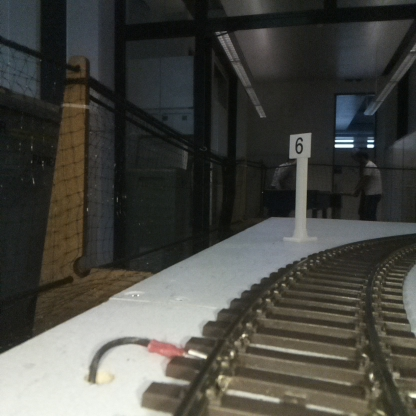white-info-6: (289, 133, 311, 240)
